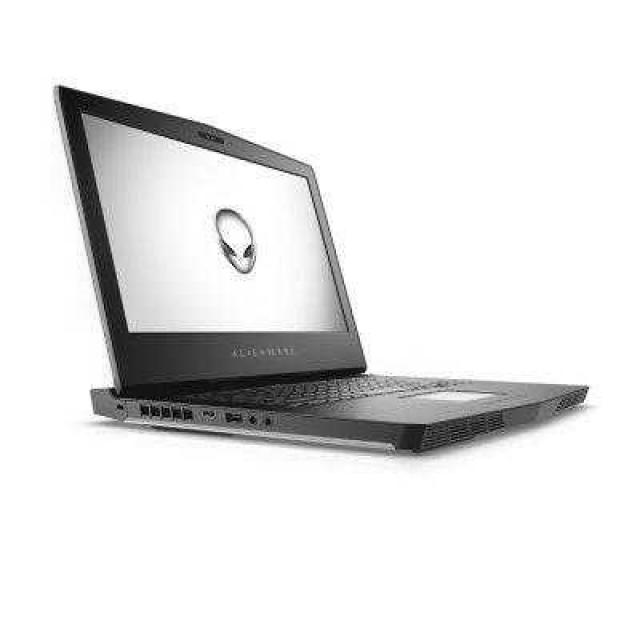laptop: (52, 91, 598, 449)
